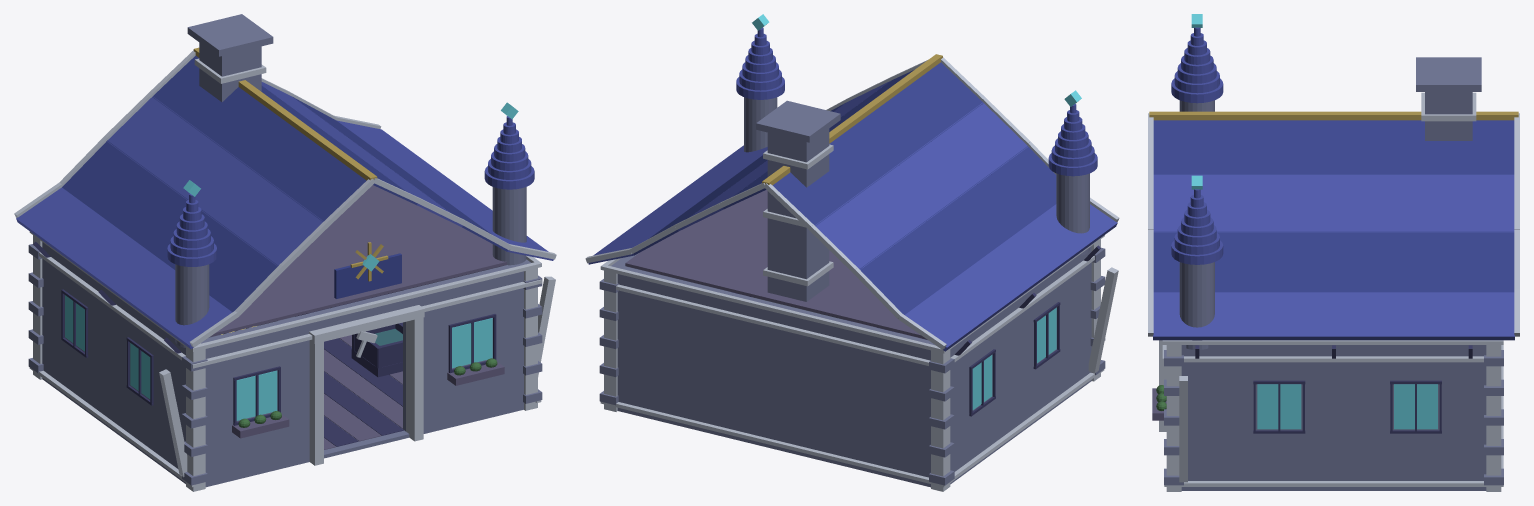
The model's file is Forge.glb.
The picture shows the model from 3 angles, left to right: view 1: azimuth 30°, elevation 25°; view 2: azimuth 150°, elevation 25°; view 3: azimuth 270°, elevation 25°; orthographic projection. The views are drawn at different scales.
Visible parts, largest first — view 1: Forge_095_Ceiling, Forge_002_Side, Forge_159_ProfileRoof, Forge_156_ProfileRoof, Forge_003_FrontWing, Forge_040_FrontWing, Forge_162_ProfileRoof, Forge_165_ProfileRoof, Forge_177_ProfileRoof, Forge_085_FrontCourse, Forge_218_ChimneyCap, Forge_192_ObservatoryTurret (+31 smaller); view 2: Forge_001_Rear, Forge_002_Side, Forge_159_ProfileRoof, Forge_162_ProfileRoof, Forge_095_Ceiling, Forge_156_ProfileRoof, Forge_165_ProfileRoof, Forge_214_ForgeChimney, Forge_177_ProfileRoof, Forge_086_RearCourse, Forge_218_ChimneyCap, Forge_078_RearCourse (+16 smaller); view 3: Forge_039_Side, Forge_171_ProfileRoof, Forge_174_ProfileRoof, Forge_168_ProfileRoof, Forge_177_ProfileRoof, Forge_180_Ridge, Forge_218_ChimneyCap, Forge_192_ObservatoryTurret, Forge_084_SideCourse, Forge_214_ForgeChimney, Forge_060_SideWindow, Forge_054_SideWindow (+13 smaller).
Boxes of the visible parts, x1,y1,x2,y2 form: Forge_095_Ceiling: [209, 185, 506, 337]; Forge_002_Side: [42, 243, 185, 483]; Forge_159_ProfileRoof: [107, 96, 323, 266]; Forge_156_ProfileRoof: [152, 55, 366, 221]; Forge_003_FrontWing: [201, 312, 318, 485]; Forge_040_FrontWing: [403, 263, 525, 431]; Forge_162_ProfileRoof: [62, 140, 278, 312]; Forge_165_ProfileRoof: [16, 187, 232, 349]; Forge_177_ProfileRoof: [337, 120, 553, 260]; Forge_085_FrontCourse: [192, 261, 541, 351]; Forge_218_ChimneyCap: [187, 14, 273, 56]; Forge_192_ObservatoryTurret: [492, 187, 526, 267]; Forge_001_Rear: [611, 263, 935, 486]; Forge_002_Side: [934, 247, 1090, 483]; Forge_159_ProfileRoof: [815, 102, 1028, 269]; Forge_162_ProfileRoof: [859, 146, 1056, 314]; Forge_095_Ceiling: [625, 190, 927, 339]; Forge_156_ProfileRoof: [773, 62, 983, 226]; Forge_165_ProfileRoof: [905, 204, 1117, 351]; Forge_214_ForgeChimney: [767, 129, 829, 301]; Forge_177_ProfileRoof: [588, 145, 767, 264]; Forge_086_RearCourse: [600, 265, 944, 353]; Forge_218_ChimneyCap: [756, 100, 840, 142]; Forge_078_RearCourse: [600, 402, 944, 487]; Forge_039_Side: [1181, 345, 1486, 490]; Forge_171_ProfileRoof: [1153, 174, 1514, 232]; Forge_174_ProfileRoof: [1153, 231, 1514, 292]; Forge_168_ProfileRoof: [1153, 120, 1514, 174]; Forge_177_ProfileRoof: [1153, 292, 1514, 340]; Forge_180_Ridge: [1149, 111, 1518, 120]; Forge_218_ChimneyCap: [1416, 57, 1481, 91]; Forge_192_ObservatoryTurret: [1179, 262, 1214, 349]; Forge_084_SideCourse: [1184, 356, 1483, 362]; Forge_214_ForgeChimney: [1425, 92, 1472, 140]; Forge_060_SideWindow: [1257, 384, 1301, 429]; Forge_054_SideWindow: [1394, 384, 1437, 429].
Size of the model in its own units: 34.64 by 27.28 by 27.2.
